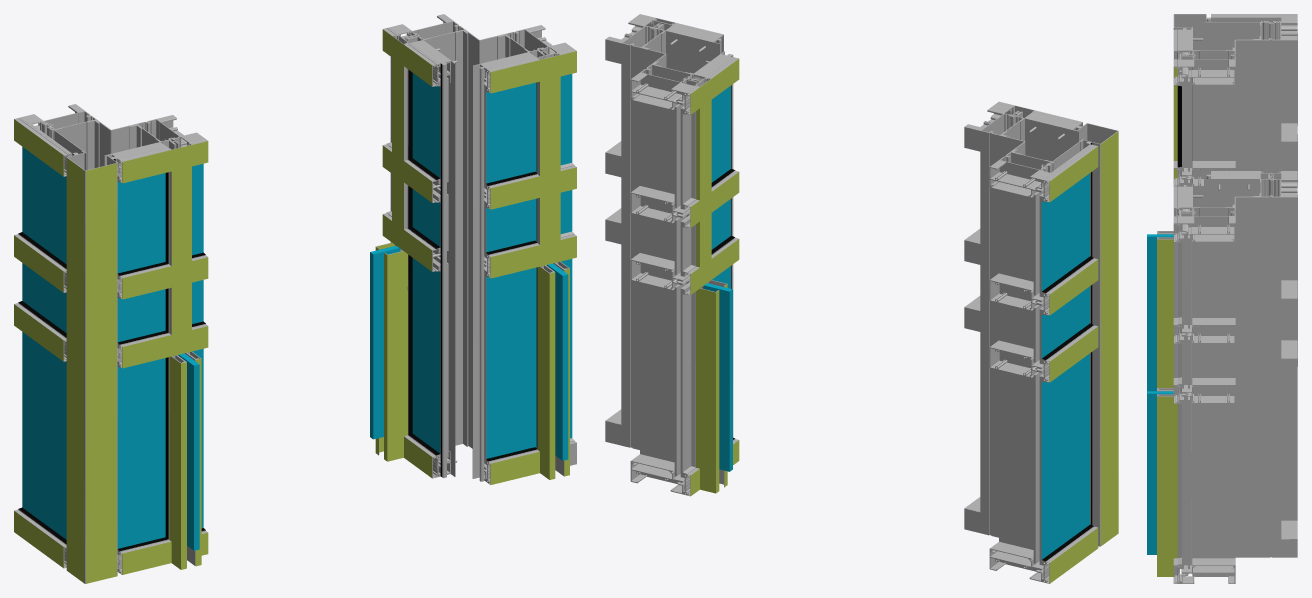
The model's file is Fin-Corner-Model.glb.
3 renders of one model, left to right at view 1: azimuth 30°, elevation 25°; view 2: azimuth 150°, elevation 25°; view 3: azimuth 270°, elevation 25°, orthographic. The views are drawn at different scales.
Bounding box in the file's own units: 1.52 × 1.22 × 0.462.
